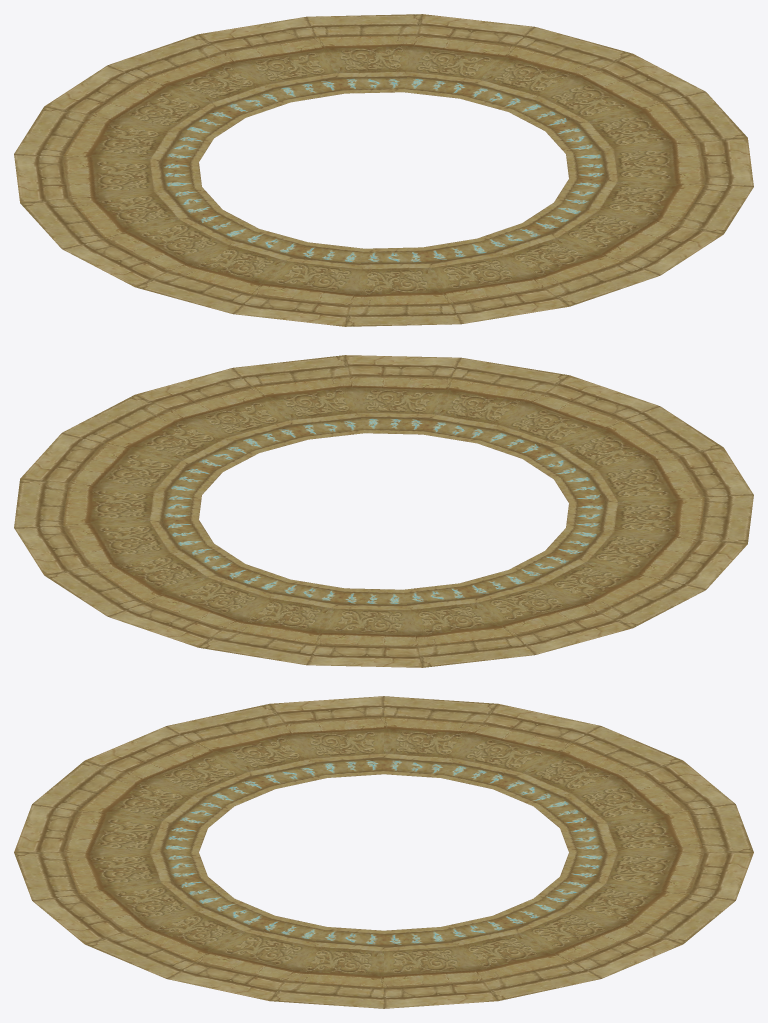
The model's file is Arena1_pattern01.FBX.
The picture shows the model from 3 angles, top to bottom: view 1: azimuth 30°, elevation 25°; view 2: azimuth 150°, elevation 25°; view 3: azimuth 270°, elevation 25°; orthographic projection.
Visible parts, largest first — view 1: Arena1_pattern01; view 2: Arena1_pattern01; view 3: Arena1_pattern01.
Part boxes in pixels (x1=…): Arena1_pattern01: x1=14, y1=14, x2=753, y2=326; Arena1_pattern01: x1=14, y1=355, x2=753, y2=667; Arena1_pattern01: x1=14, y1=696, x2=753, y2=1008.
Size of the model in its own units: 935 by 5.72e-14 by 935.
